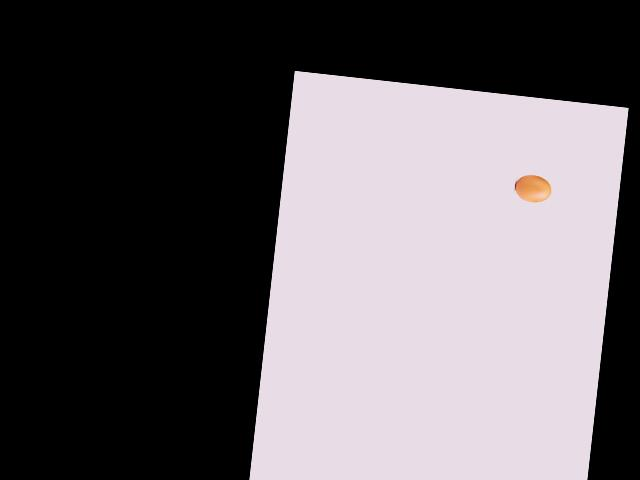egg: (513, 173, 553, 203)
